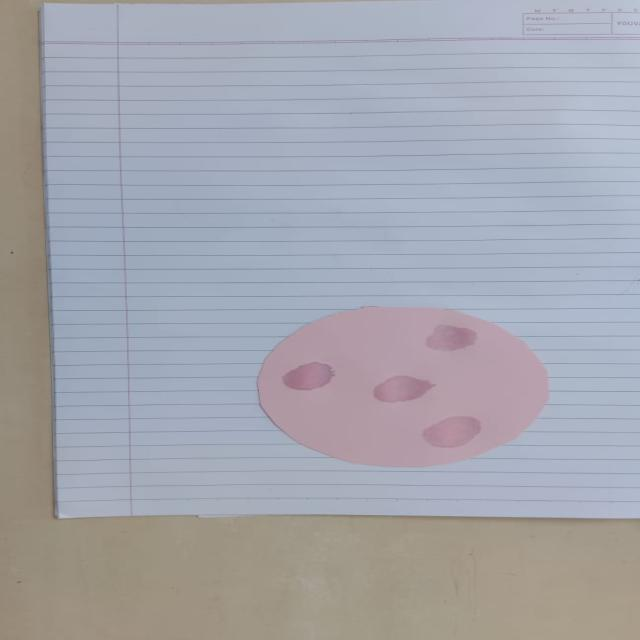BlueColor: (423, 417, 480, 448), (374, 376, 434, 403), (283, 362, 333, 391), (427, 324, 476, 352)
